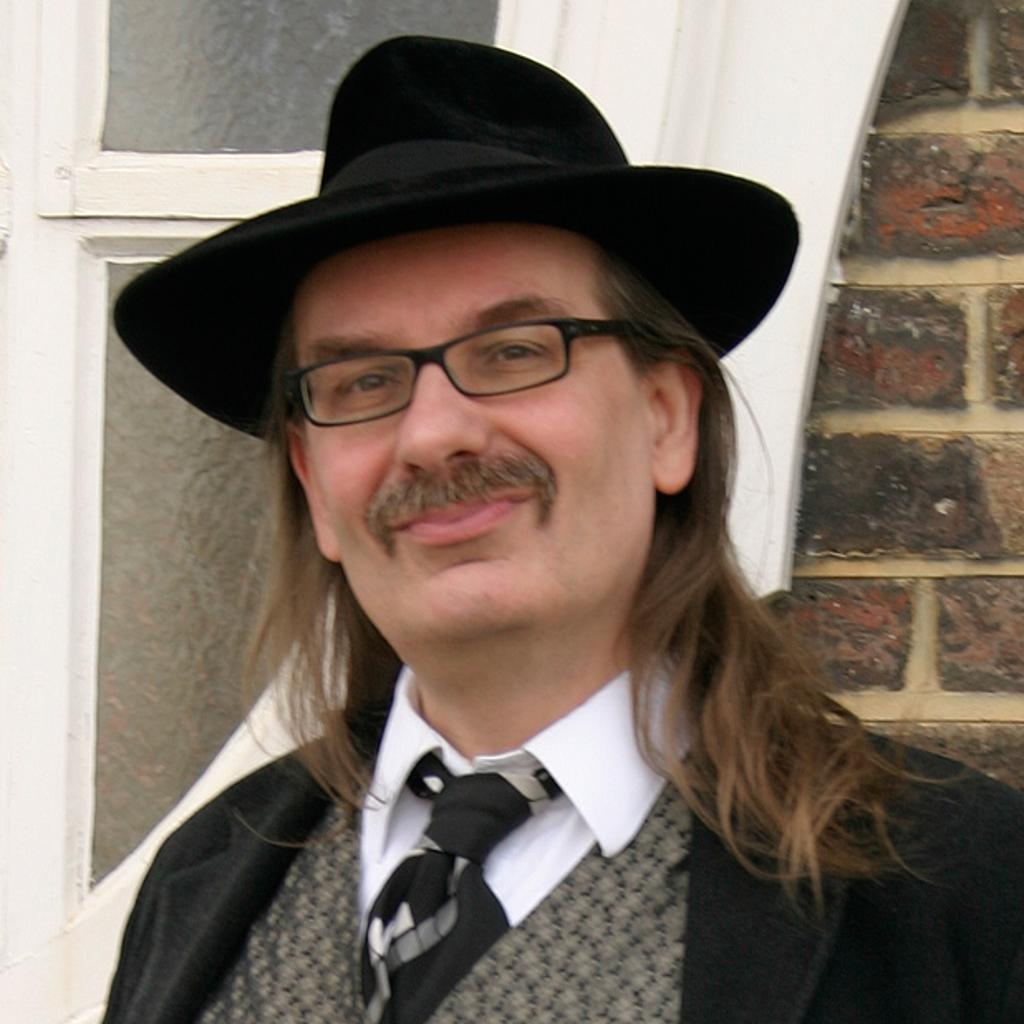face: (293, 219, 647, 637)
